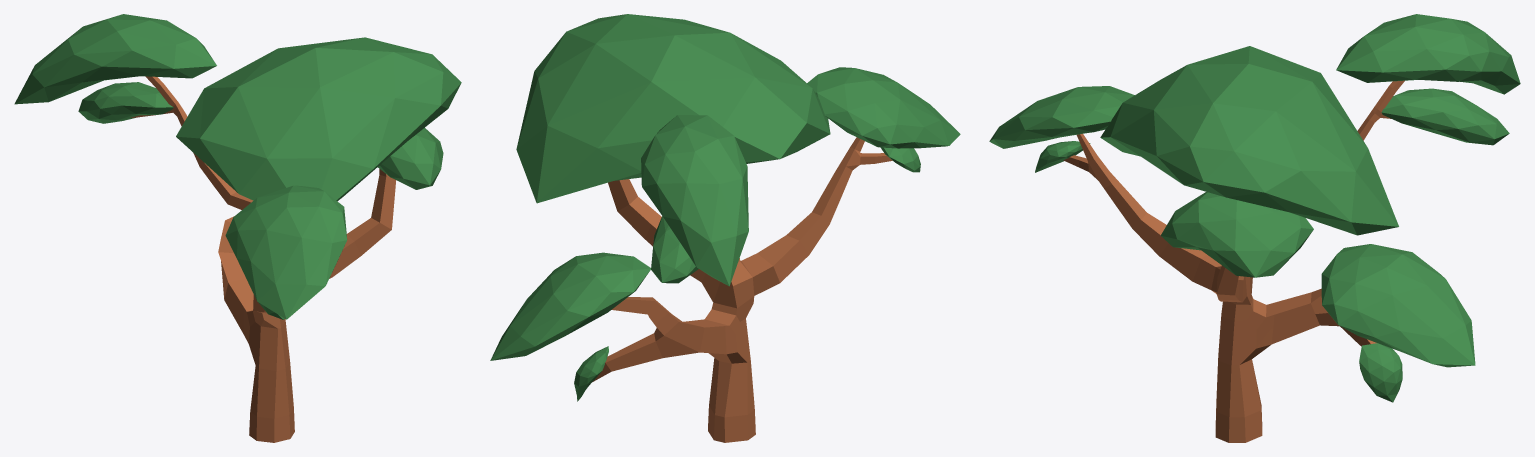
The model's file is Tree.fbx.
3 views of the same model, side by side, from view 1: azimuth 30°, elevation 25°; view 2: azimuth 150°, elevation 25°; view 3: azimuth 270°, elevation 25° (orthographic). The views are drawn at different scales.
Parts seen in each view (by area): view 1: Tree; view 2: Tree; view 3: Tree.
Boxes of the visible parts, box(x1,y1,x2,y2) form: Tree: box(14, 14, 461, 442); Tree: box(490, 14, 960, 442); Tree: box(989, 14, 1520, 442).
Bounding box in the file's own units: 787 × 917 × 1119.
